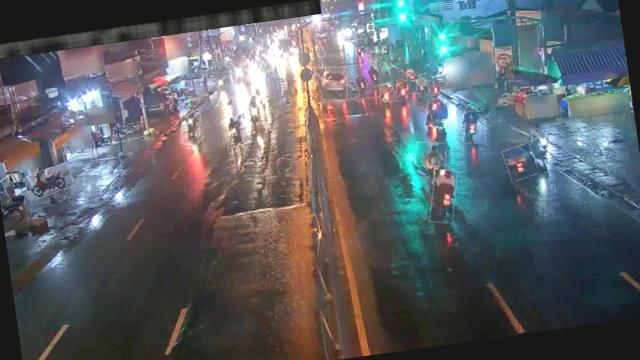Bike: (426, 167, 461, 224), (23, 164, 74, 198), (503, 143, 538, 181), (413, 138, 448, 168), (460, 108, 488, 144), (178, 108, 204, 145), (424, 96, 452, 130), (222, 114, 250, 148), (242, 94, 266, 129), (111, 122, 144, 143), (361, 60, 384, 88), (415, 72, 436, 97), (354, 72, 371, 94), (394, 78, 408, 102), (378, 82, 394, 102)
Car: (308, 64, 349, 102)
